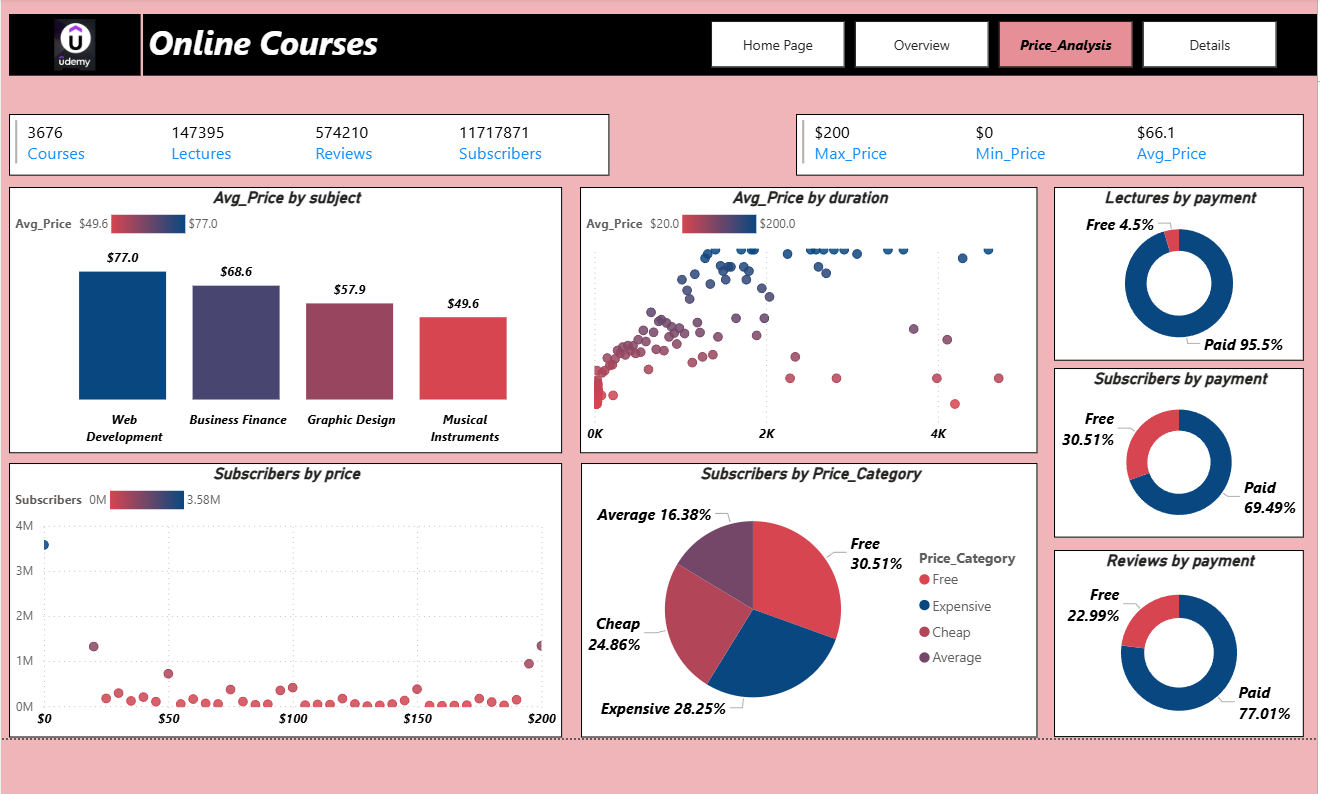

The dashboard page shown, as its layout file describes it:
{"tool":"powerbi","page":{"name":"Price_Analysis","canvas":[1280,720],"ordinal":2},"visuals":[{"type":"textbox","box":[137.8,15.4,1142.6,59.8],"z":0},{"type":"multiRowCard","fields":{"Values":["udemy.Courses","udemy.Lectures","udemy.Reviews","udemy.Subscribers"]},"box":[7.8,112.8,583.6,60.3],"z":1000},{"type":"multiRowCard","fields":{"Values":["udemy.Max_Price","udemy.Min_Price","udemy.Average_Price"]},"box":[773.3,112.8,494.1,60.3],"z":2000},{"type":"image","box":[8.2,15.4,127.9,59.8],"z":3000},{"type":"columnChart","fields":{"Category":["udemy.subject"],"Y":["udemy.Avg_Price"]},"box":[7.8,183.8,537.9,258.7],"z":4000},{"type":"scatterChart","fields":{"X":["udemy.price"],"Y":["udemy.Subscribers"]},"box":[7.8,452.3,537.9,267.5],"z":5000},{"type":"scatterChart","fields":{"Y":["udemy.Avg_Price"],"X":["udemy.duration"]},"box":[563.2,183.8,445.5,258.7],"z":6000},{"type":"pieChart","fields":{"Category":["udemy.Price_Category"],"Y":["udemy.Subscribers"]},"box":[564.1,452.3,444.5,266.5],"z":7000},{"type":"donutChart","fields":{"Y":["udemy.Lectures"],"Category":["udemy.payment"]},"box":[1024.2,183.8,243.2,169.2],"z":8000},{"type":"donutChart","fields":{"Category":["udemy.payment"],"Y":["udemy.Subscribers"]},"box":[1024.2,359.9,243.2,165.3],"z":9000},{"type":"donutChart","fields":{"Y":["udemy.Reviews"],"Category":["udemy.payment"]},"box":[1024.2,536.9,243.2,181.9],"z":10000},{"type":"pageNavigator","box":[690.6,22.4,553.4,45.7],"z":11000}]}

Visuals, with their boxes in screenshot pixels (x1, y1, x2, y2):
textbox: 147/12/1309/73
multiRowCard - udemy.Courses x udemy.Lectures: 15/111/608/173
multiRowCard - udemy.Max_Price x udemy.Min_Price: 793/111/1296/173
image: 15/12/145/73
columnChart - udemy.subject x udemy.Avg_Price: 15/183/562/447
scatterChart - udemy.price x udemy.Subscribers: 15/457/562/729
scatterChart - udemy.Avg_Price x udemy.duration: 580/183/1033/447
pieChart - udemy.Price_Category x udemy.Subscribers: 581/457/1033/728
donutChart - udemy.Lectures x udemy.payment: 1048/183/1296/356
donutChart - udemy.payment x udemy.Subscribers: 1048/363/1296/531
donutChart - udemy.Reviews x udemy.payment: 1048/543/1296/728
pageNavigator: 709/19/1272/66
